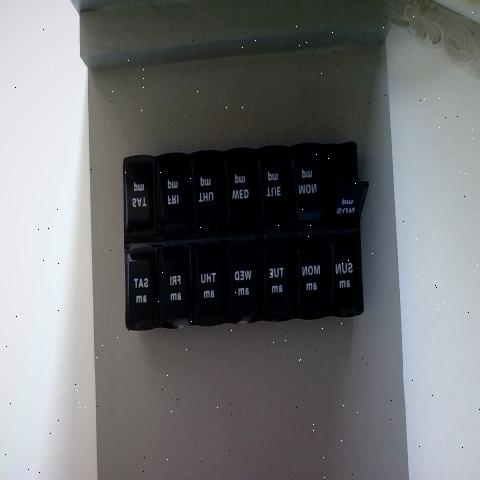FRI-am: (158, 251, 186, 328)
FRI-pm: (155, 154, 186, 234)
MON-am: (289, 235, 324, 316)
MON-pm: (286, 150, 322, 233)
Open: (323, 148, 368, 226)
PillBox: (112, 126, 374, 368)
SAT-am: (122, 252, 156, 334)
SAT-pm: (120, 157, 154, 240)
SUN-am: (328, 232, 361, 318)
THU-am: (190, 241, 223, 323)
THU-pm: (184, 149, 218, 236)
TUE-am: (253, 241, 286, 319)
TUE-pm: (254, 146, 285, 227)
WED-am: (224, 242, 256, 324)
WED-pm: (216, 155, 252, 233)
